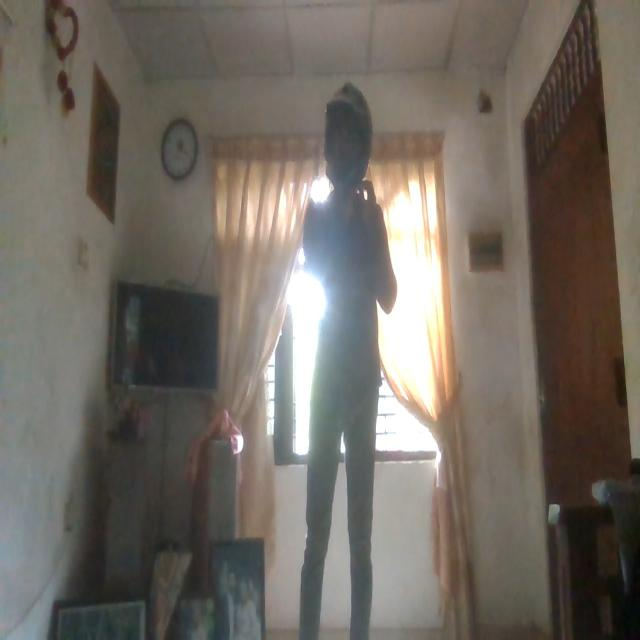Helmet_Wearer: (311, 74, 376, 208)
Person: (293, 99, 401, 640)
